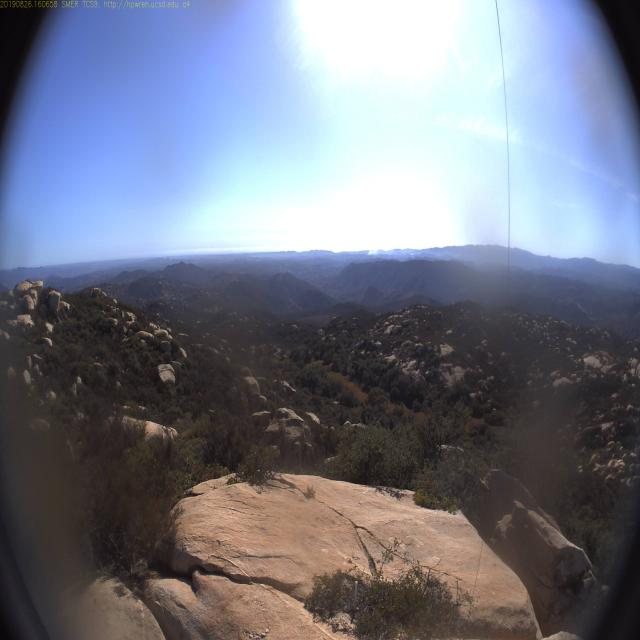smoke: (365, 246, 378, 256), (408, 249, 418, 257)
